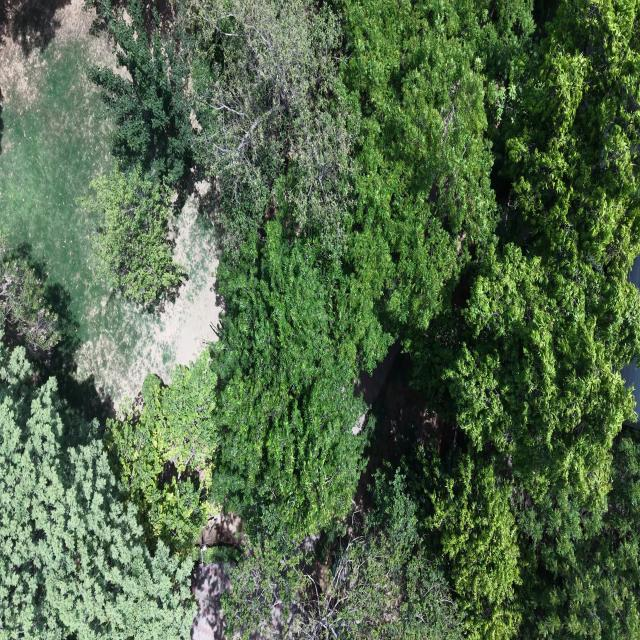VEGETATION_TREE: (0, 0, 639, 639), (415, 3, 639, 637), (187, 0, 391, 536), (187, 3, 372, 535), (342, 0, 532, 336), (0, 347, 194, 639), (212, 220, 365, 536), (187, 0, 354, 260), (223, 475, 462, 639), (84, 0, 192, 307), (527, 430, 639, 638), (107, 353, 220, 551), (414, 448, 521, 638), (87, 0, 192, 184), (83, 163, 186, 306), (0, 232, 60, 354)
WATERBODY: (0, 0, 218, 407)
